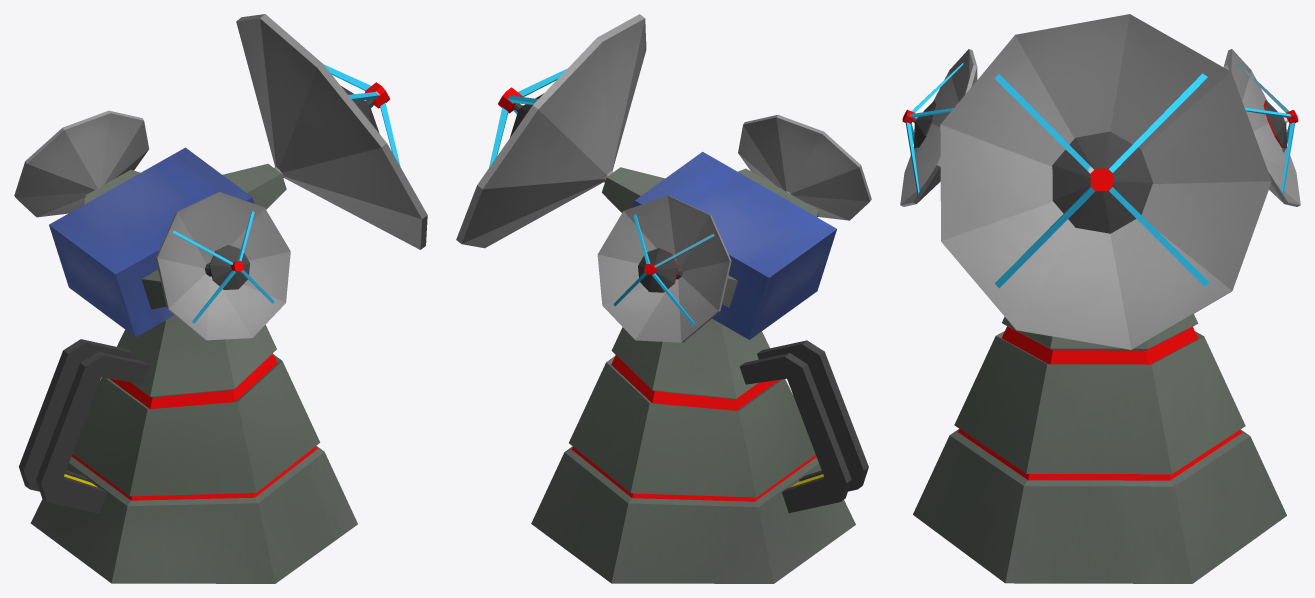
Rendered from TorreRadar2.fbx.
The picture shows the model from 3 angles, left to right: view 1: azimuth 30°, elevation 25°; view 2: azimuth 150°, elevation 25°; view 3: azimuth 270°, elevation 25°; orthographic projection. The views are drawn at different scales.
Visible parts, largest first — view 1: Torre; view 2: Torre; view 3: Torre.
Boxes of the visible parts, x1,y1,x2,y2 form: Torre: (14, 14, 427, 583); Torre: (456, 14, 871, 583); Torre: (900, 14, 1300, 583).
Bounding box in the file's own units: 255 × 318 × 211.
